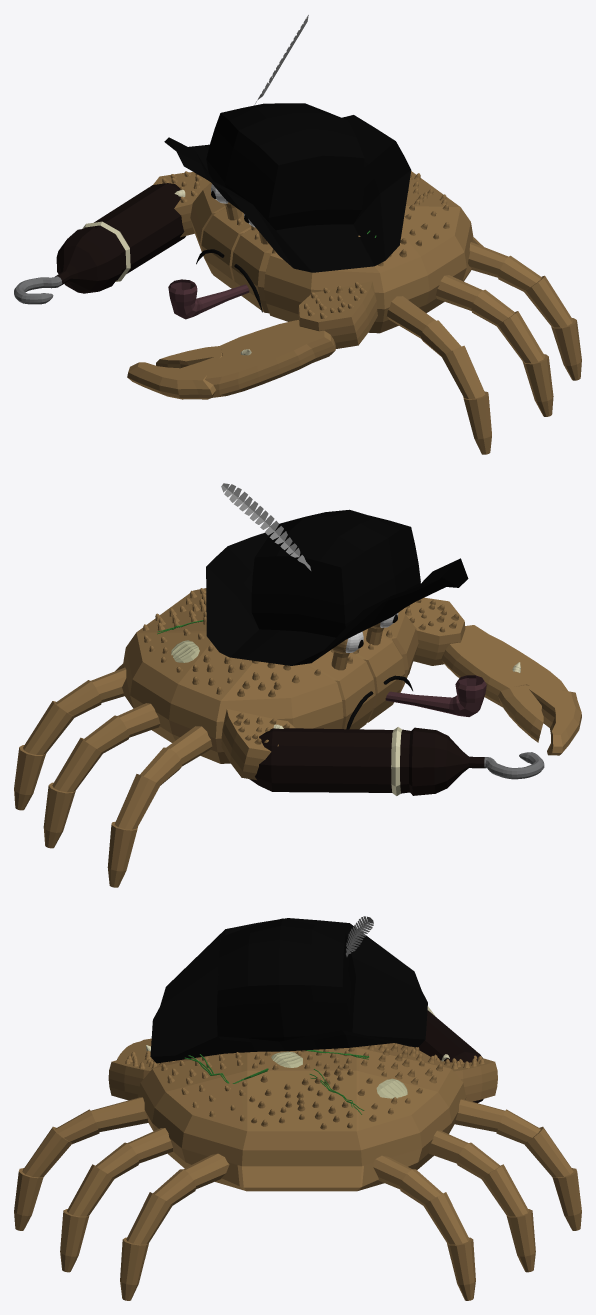
File: Crab2.fbx
3 views of the same model, one above another, from view 1: azimuth 30°, elevation 25°; view 2: azimuth 150°, elevation 25°; view 3: azimuth 270°, elevation 25° (orthographic). The views are drawn at different scales.
Visible parts, largest first — view 1: Circle.201, Plane, Plane.002, Circle.198, Cylinder.004, Cylinder.003, Cylinder.010, Circle.202, Plane.001, Circle.199; view 2: Circle.201, Plane, Circle.198, Plane.002, Cylinder.009, Cylinder.008, Cylinder.006, Plane.001, Circle.202, Plane.003, Circle.199, Circle.200; view 3: Plane, Circle.201, Cylinder.004, Cylinder.003, Cylinder.009, Cylinder.010, Cylinder.006, Cylinder.008, Plane.002, Circle.198, Plane.001, Plane.003 (+1 smaller).
Boxes of the visible parts, bbox=[...] form: Circle.201: bbox=[164, 103, 411, 272]; Plane: bbox=[190, 171, 483, 333]; Plane.002: bbox=[127, 281, 377, 399]; Circle.198: bbox=[55, 183, 185, 293]; Cylinder.004: bbox=[387, 296, 491, 454]; Cylinder.003: bbox=[436, 275, 553, 416]; Cylinder.010: bbox=[468, 242, 581, 380]; Circle.202: bbox=[168, 279, 249, 319]; Plane.001: bbox=[153, 172, 210, 237]; Circle.199: bbox=[14, 276, 62, 304]; Circle.201: bbox=[206, 509, 468, 665]; Plane: bbox=[115, 588, 418, 763]; Circle.198: bbox=[249, 727, 484, 795]; Plane.002: bbox=[401, 597, 581, 755]; Cylinder.009: bbox=[107, 726, 212, 887]; Cylinder.008: bbox=[43, 703, 160, 848]; Cylinder.006: bbox=[14, 667, 126, 810]; Plane.001: bbox=[221, 709, 295, 780]; Circle.202: bbox=[385, 675, 486, 716]; Plane.003: bbox=[221, 483, 311, 570]; Circle.199: bbox=[484, 752, 544, 779]; Circle.200: bbox=[391, 727, 402, 795]; Plane: bbox=[137, 1043, 466, 1191]; Circle.201: bbox=[150, 918, 427, 1063]; Cylinder.004: bbox=[14, 1097, 148, 1230]; Cylinder.003: bbox=[60, 1128, 172, 1272]; Cylinder.009: bbox=[454, 1099, 581, 1230]; Cylinder.010: bbox=[120, 1153, 229, 1300]; Cylinder.006: bbox=[373, 1155, 475, 1300]; Cylinder.008: bbox=[429, 1130, 535, 1272]; Plane.002: bbox=[108, 1038, 159, 1100]; Circle.198: bbox=[414, 1010, 483, 1103]; Plane.001: bbox=[440, 1058, 497, 1101]; Plane.003: bbox=[346, 916, 373, 956].
Bounding box in the file's own units: 474 × 314 × 519.
